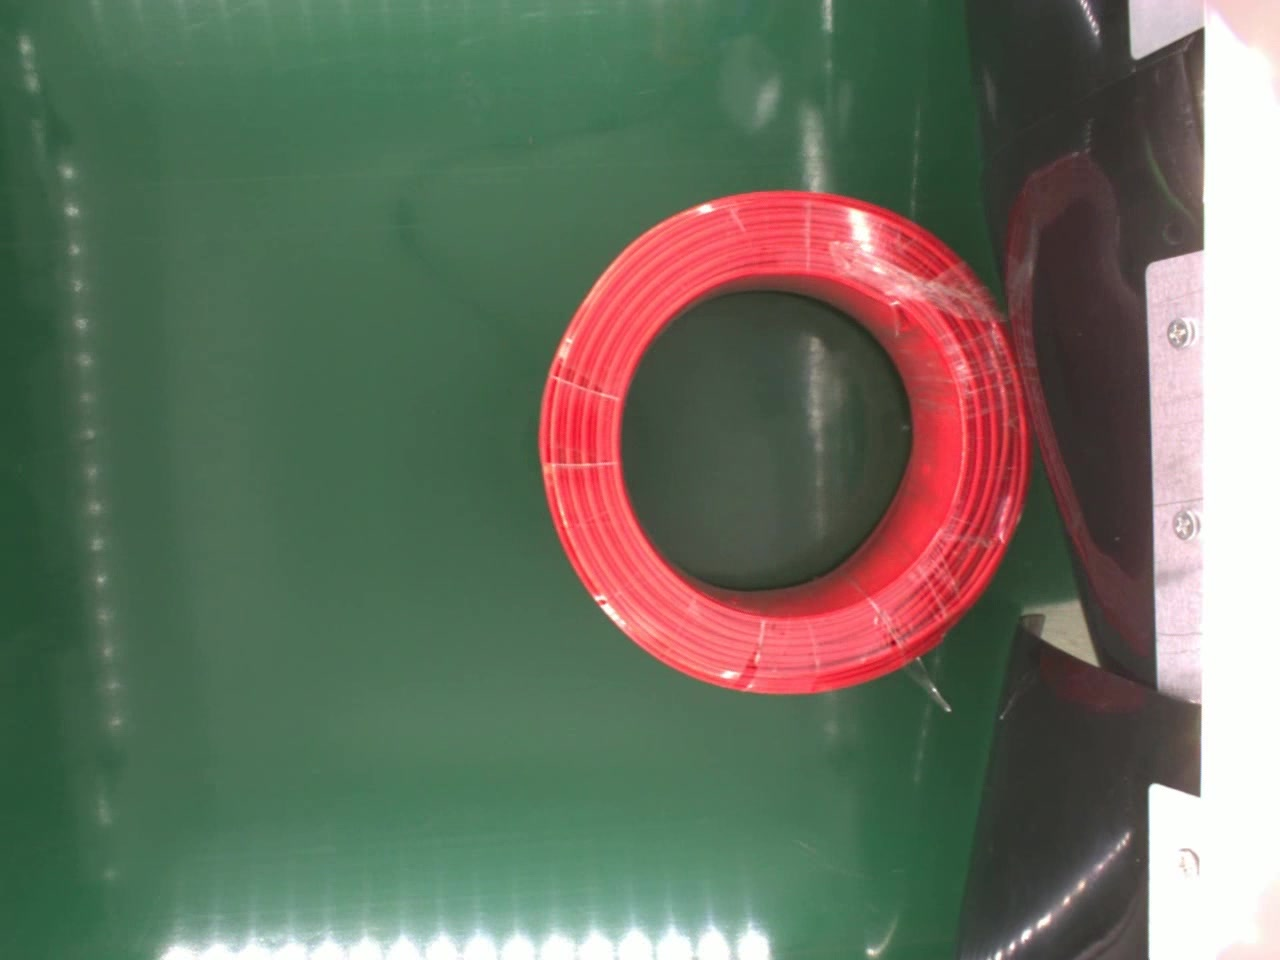red: (538, 188, 1031, 695)
